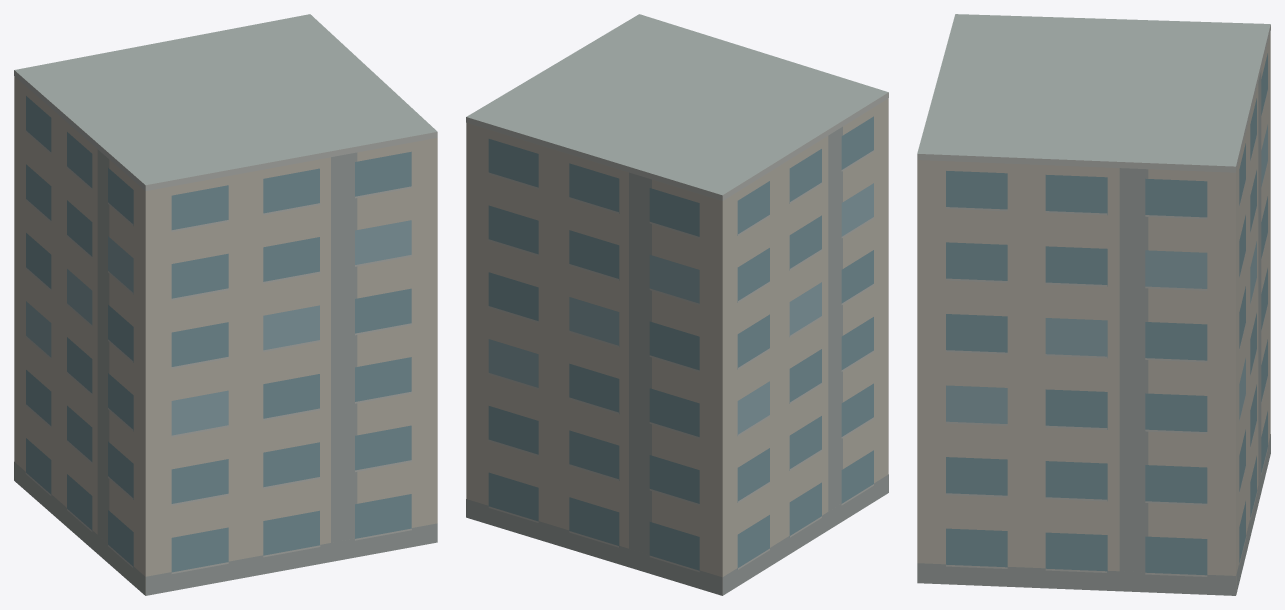
The model's file is survey-upis-32868661.glb.
3 views of the same model, side by side, from view 1: azimuth 30°, elevation 25°; view 2: azimuth 150°, elevation 25°; view 3: azimuth 270°, elevation 25° (orthographic). The views are drawn at different scales.
Parts seen in each view (by area): view 1: survey-upis-32868661.tmp; view 2: survey-upis-32868661.tmp; view 3: survey-upis-32868661.tmp.
Boxes of the visible parts, x1=… form: survey-upis-32868661.tmp: x1=14, y1=14, x2=437, y2=595; survey-upis-32868661.tmp: x1=466, y1=14, x2=888, y2=595; survey-upis-32868661.tmp: x1=917, y1=14, x2=1270, y2=595.
Bounding box in the file's own units: 12.89 × 16.9 × 12.63.
